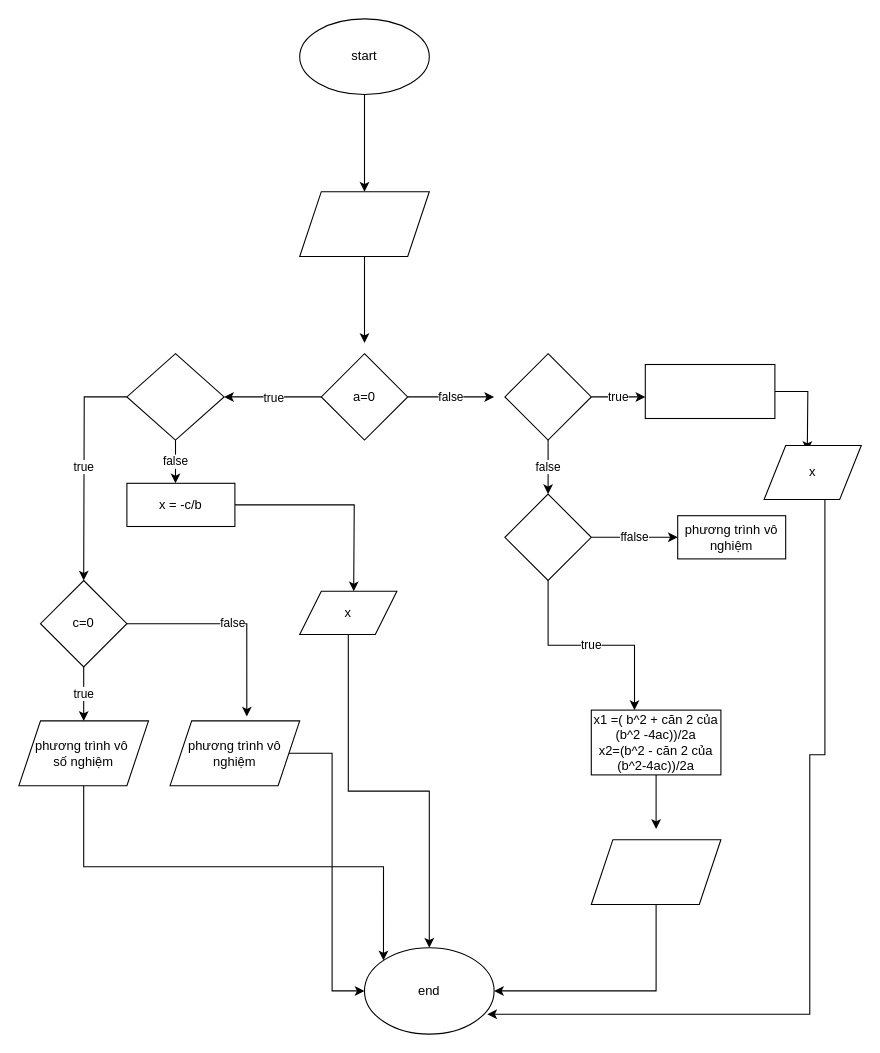
The diagram is 880 pixels wide and 1053 high, and some of its shapes have lost their labels. Each missing label, with the centre of its shape:
b =0: (175,396)
b^2 -4ac=0: (547,396)
b^2 -4ac>0: (547,536)
nhap a,b,c: (364,223)
x1, x2: (655,872)
x=-b/2a: (709,390)
